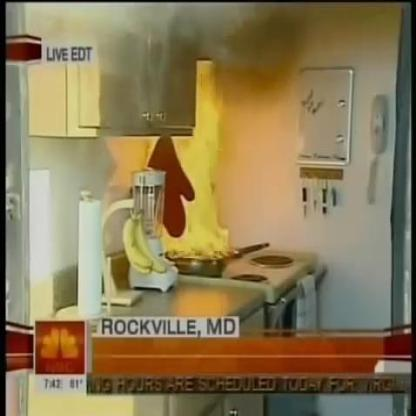fire: (144, 58, 244, 258)
